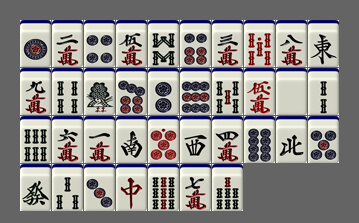0m: (244, 68, 275, 115)
0p: (148, 116, 179, 163)
0s: (244, 20, 275, 67)
1m: (84, 116, 115, 163)
1p: (20, 20, 51, 67)
1s: (84, 68, 115, 115)
1z: (308, 20, 339, 67)
2m: (52, 20, 83, 67)
2p: (148, 68, 179, 115)
2s: (308, 68, 339, 115)
2z: (116, 116, 147, 163)
3m: (212, 20, 243, 67)
3p: (84, 164, 115, 211)
3s: (52, 164, 83, 211)
3z: (180, 116, 211, 163)
4m: (212, 116, 243, 163)
4p: (84, 20, 115, 67)
4s: (52, 68, 83, 115)
4z: (276, 116, 307, 163)
5m: (116, 20, 147, 67)
5p: (308, 116, 339, 163)
5s: (212, 68, 243, 115)
5z: (276, 68, 307, 115)
6m: (52, 116, 83, 163)
6p: (180, 20, 211, 67)
6s: (20, 116, 51, 163)
6z: (20, 164, 51, 211)
7m: (180, 164, 211, 211)
7p: (116, 68, 147, 115)
7s: (212, 164, 243, 211)
7z: (116, 164, 147, 211)
8m: (276, 20, 307, 67)
8p: (244, 116, 275, 163)
8s: (148, 20, 179, 67)
9m: (20, 68, 51, 115)
9p: (180, 68, 211, 115)
9s: (148, 164, 179, 211)
